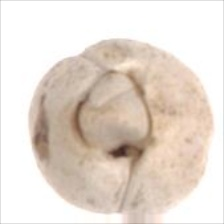L3: (69, 64, 157, 164)
L4: (28, 38, 215, 214)
